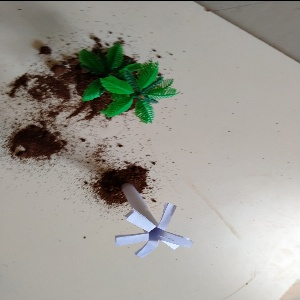plant: (69, 42, 173, 124)
weed: (108, 167, 197, 259)
